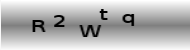2: (52, 13, 65, 27)
R: (31, 18, 46, 32)
W: (78, 23, 101, 37)
q: (121, 12, 135, 27)
t: (99, 8, 108, 20)
